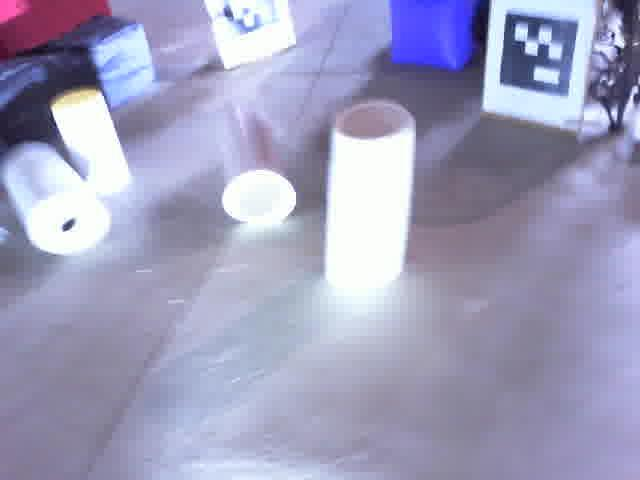coral: (321, 95, 424, 306), (218, 94, 297, 236)
